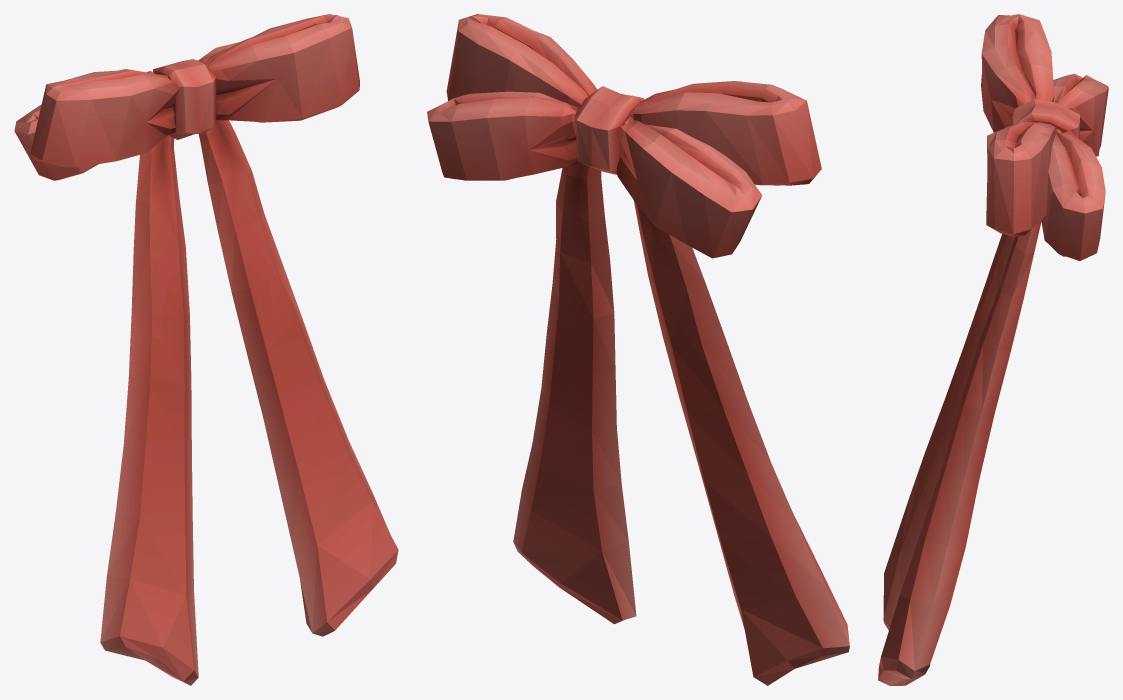
The model's file is CharSkyKid_Horn_AP20Ribbon.glb.
The picture shows the model from 3 angles, left to right: view 1: azimuth 30°, elevation 25°; view 2: azimuth 150°, elevation 25°; view 3: azimuth 270°, elevation 25°; orthographic projection. The views are drawn at different scales.
Visible parts, largest first — view 1: CharSkyKid_Horn_AP20Ribbon; view 2: CharSkyKid_Horn_AP20Ribbon; view 3: CharSkyKid_Horn_AP20Ribbon.
Part boxes in pixels (x1,y1,x2,y2): CharSkyKid_Horn_AP20Ribbon: [14, 14, 398, 685]; CharSkyKid_Horn_AP20Ribbon: [427, 14, 849, 685]; CharSkyKid_Horn_AP20Ribbon: [878, 14, 1108, 685].
Bounding box in the file's own units: 2.8 × 4.74 × 1.67.
1 material, 1 textured.
